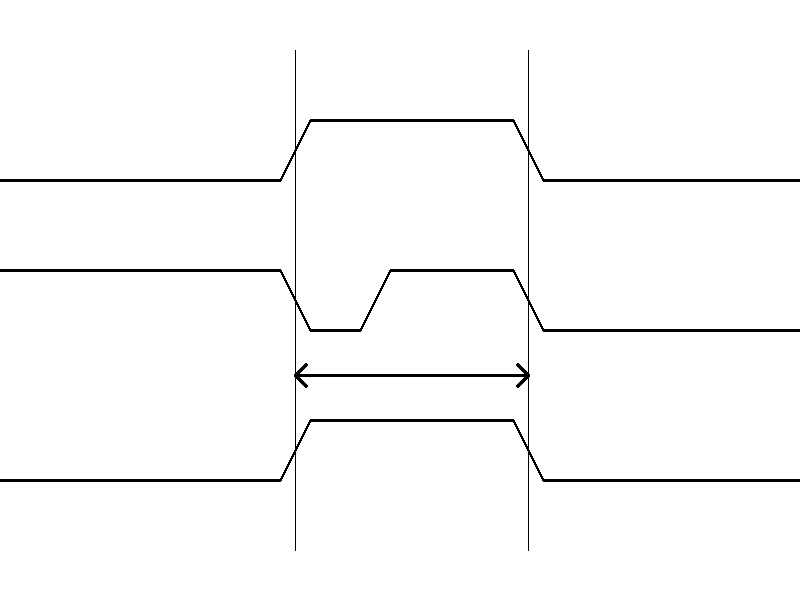double_arrow: (295, 360, 528, 390)
